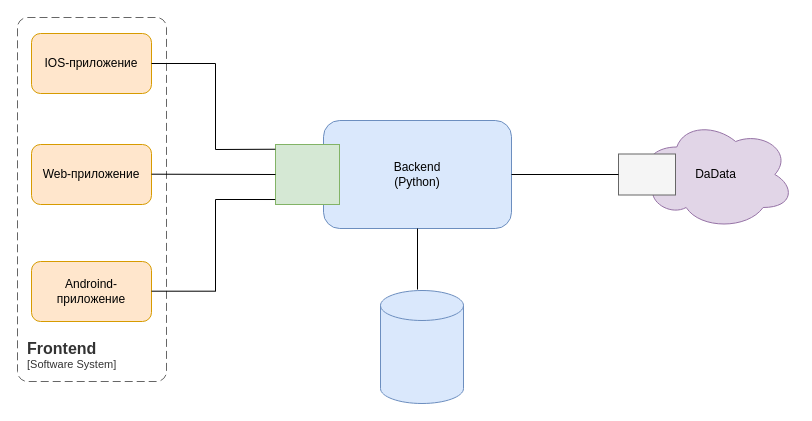
The diagram is 812 pixels wide and 421 high, and some of its shapes have lost their labels. The shapes that lost their labels are listed below. From the top down, each one's centre as x and y in pixels, then its label:
the point at 307,174: REST API
the point at 647,174: HTTP
the point at 422,347: Database (PostgreSQL)
